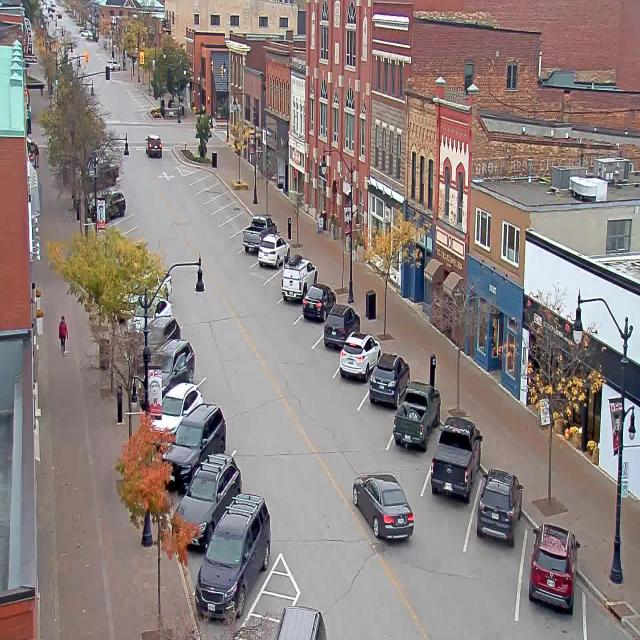available: (583, 585, 639, 640), (265, 260, 291, 296), (236, 204, 257, 232), (230, 193, 247, 221), (221, 183, 238, 208), (213, 174, 229, 200), (194, 158, 210, 182), (206, 166, 220, 189)
occupied: (194, 491, 271, 621), (172, 452, 242, 550), (161, 402, 227, 489), (528, 522, 580, 614), (430, 416, 482, 503), (149, 377, 204, 448), (476, 467, 523, 547), (392, 380, 441, 450), (144, 336, 198, 381), (368, 351, 410, 408), (339, 330, 381, 382), (280, 253, 318, 302), (323, 302, 360, 350), (140, 312, 183, 344), (242, 213, 276, 253), (302, 282, 336, 322), (257, 232, 290, 268)
